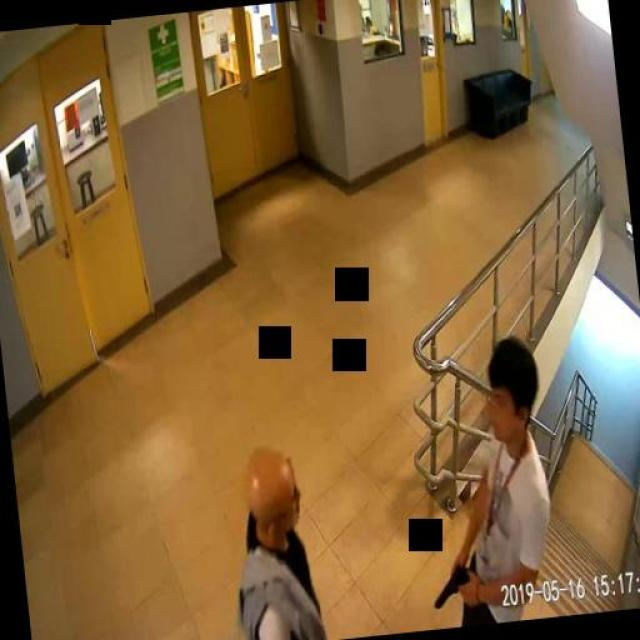gun: (428, 560, 472, 611)
